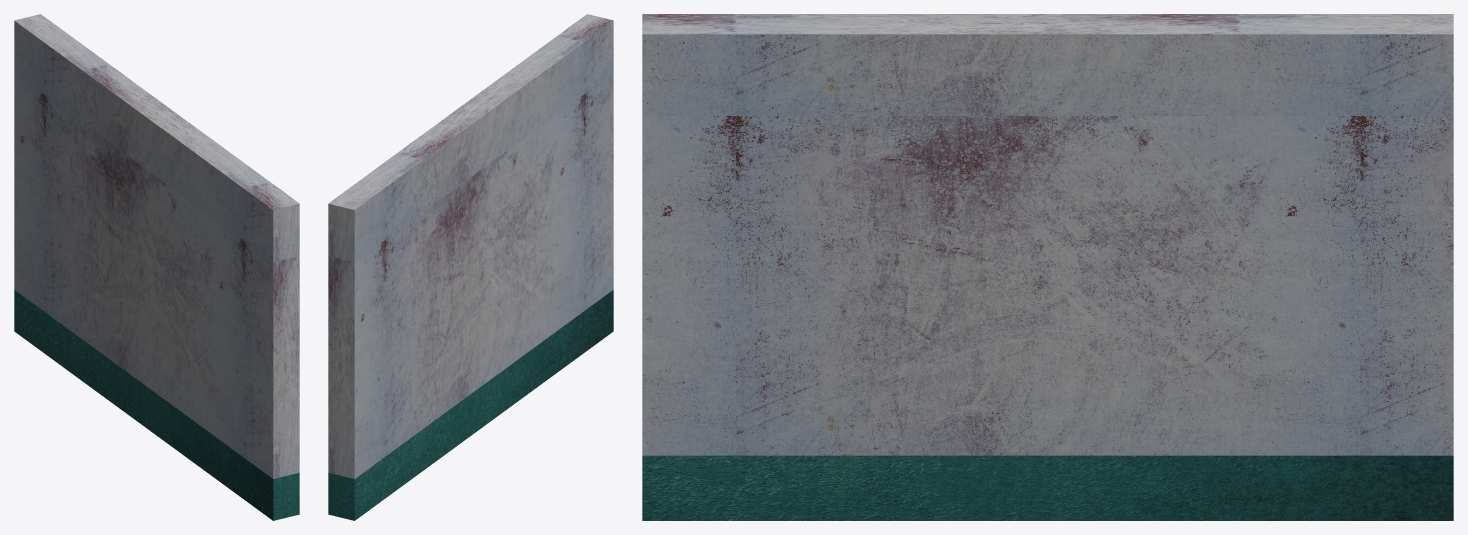
File: devor.fbx
3 views of the same model, side by side, from view 1: azimuth 30°, elevation 25°; view 2: azimuth 150°, elevation 25°; view 3: azimuth 270°, elevation 25° (orthographic). The views are drawn at different scales.
Visible parts, largest first — view 1: Box003, Object001; view 2: Box003, Object001; view 3: Box003, Object001.
Part boxes in pixels (x1=…): Box003: x1=14, y1=14, x2=299, y2=478; Object001: x1=14, y1=290, x2=299, y2=520; Box003: x1=328, y1=14, x2=613, y2=478; Object001: x1=328, y1=290, x2=613, y2=520; Box003: x1=642, y1=14, x2=1453, y2=455; Object001: x1=642, y1=455, x2=1453, y2=520.
Bounding box in the file's own units: 23.08 × 258 × 390.
2 materials, 2 textured.
